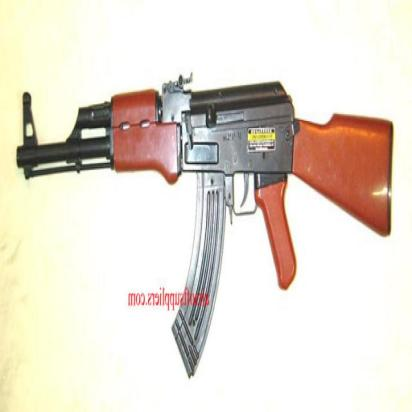Gun: (10, 73, 399, 381)
